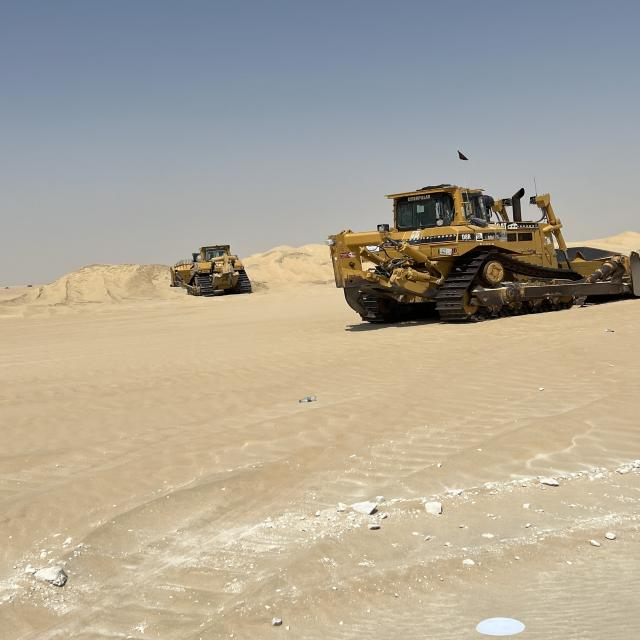buldozerpayloadergrader: (326, 180, 636, 332), (167, 239, 254, 303)
